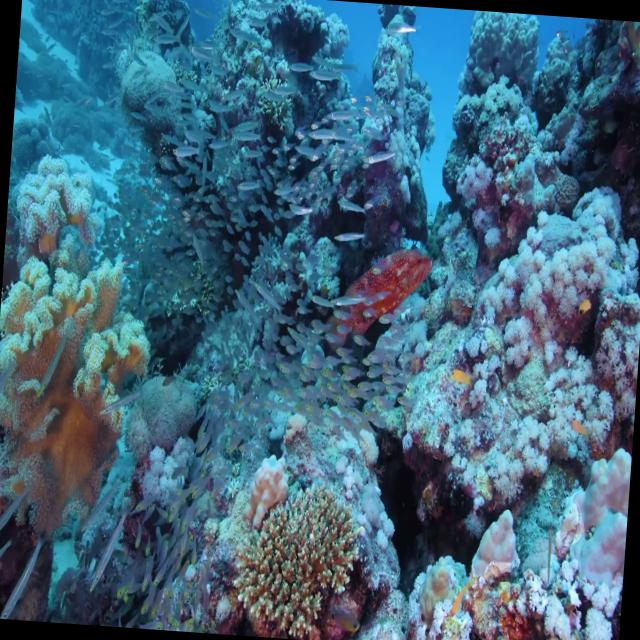fish: (323, 243, 433, 349)
